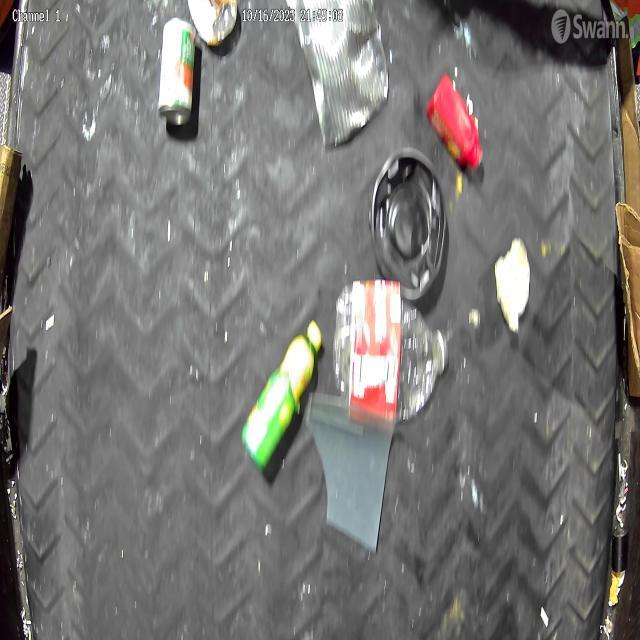can: (158, 16, 197, 127)
non_white_jug: (426, 73, 484, 169)
plastic_bottle: (332, 276, 449, 421)
